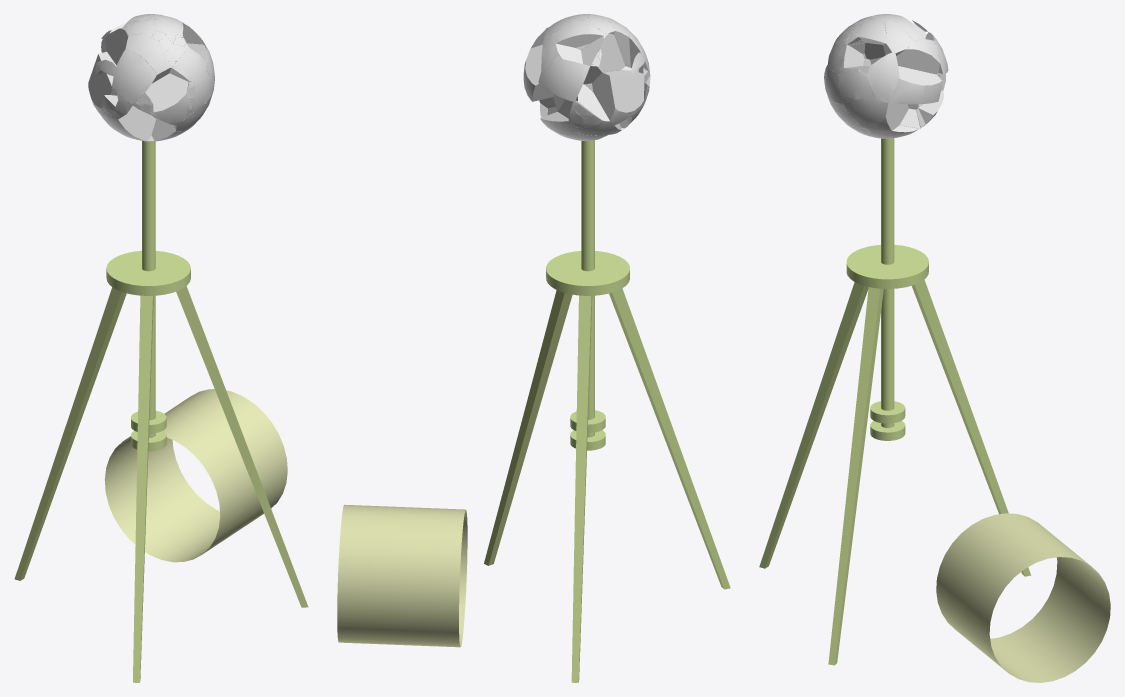
Rendered from lamp_abandoned.glb.
3 renders of one model, left to right at view 1: azimuth 30°, elevation 25°; view 2: azimuth 150°, elevation 25°; view 3: azimuth 270°, elevation 25°, orthographic. The views are drawn at different scales.
Parts seen in each view (by area): view 1: lamp_abandoned; view 2: lamp_abandoned; view 3: lamp_abandoned.
Boxes of the visible parts, bbox=[...] form: lamp_abandoned: bbox=[14, 14, 308, 682]; lamp_abandoned: bbox=[337, 14, 730, 682]; lamp_abandoned: bbox=[759, 14, 1110, 682].
Bounding box in the file's own units: 1 × 2.11 × 1.15.
